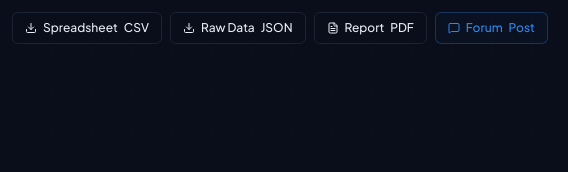
ExportButtons error feedback › shows Failed on JSON button when export throws
The width and height of the screenshot is (568, 172).
Click the button "Raw Data JSON" at (238, 28), box 170,12 -> 306,44
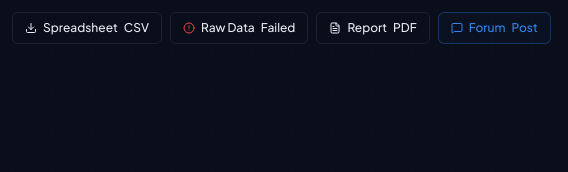
Expected: the button "Raw Data Failed" is shown, 170,12 -> 308,44
